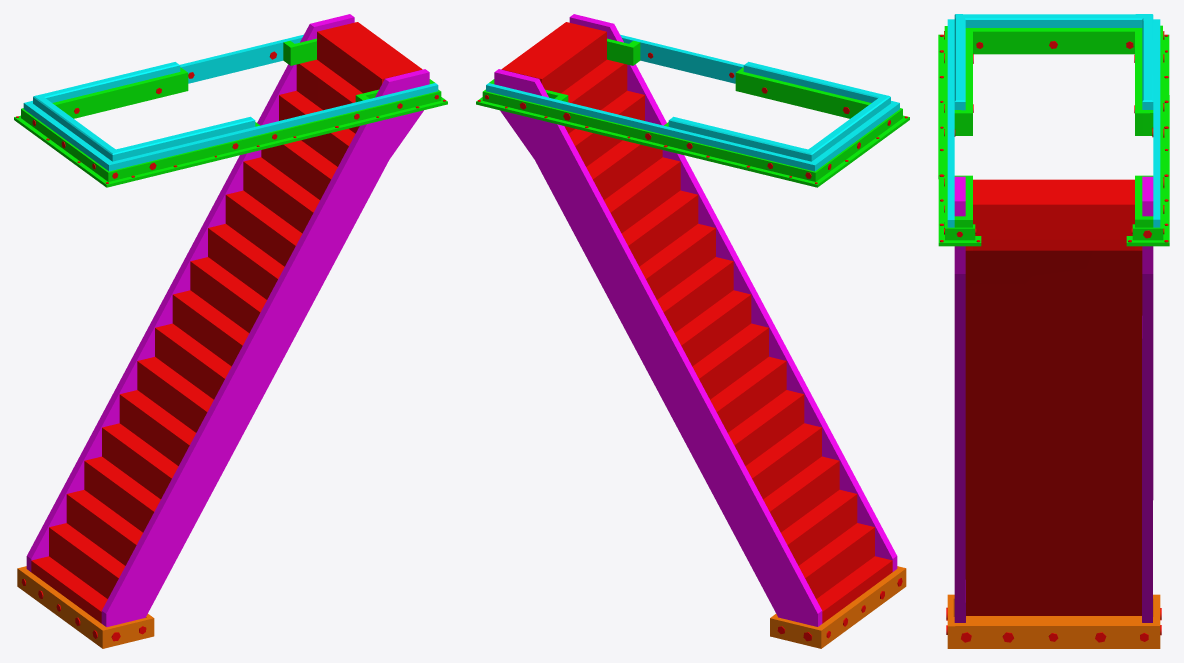
Rendered from FBX_Escaleras_NoB.FBX.
3 views of the same model, side by side, from view 1: azimuth 30°, elevation 25°; view 2: azimuth 150°, elevation 25°; view 3: azimuth 270°, elevation 25° (orthographic). The views are drawn at different scales.
Parts seen in each view (by area): view 1: Escaleras_Interior001; view 2: Escaleras_Interior001; view 3: Escaleras_Interior001.
Boxes of the visible parts, x1,y1,x2,y2 form: Escaleras_Interior001: [14, 14, 447, 648]; Escaleras_Interior001: [476, 14, 909, 648]; Escaleras_Interior001: [938, 14, 1169, 648].
Bounding box in the file's own units: 247 × 341 × 116.
